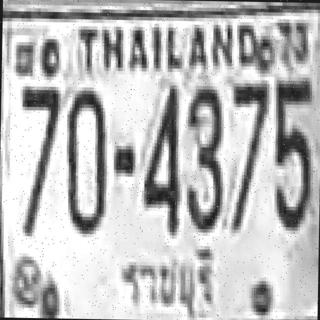N00: (63, 89, 106, 232)
N03: (184, 84, 222, 228)
N04: (141, 81, 179, 232)
N05: (272, 77, 312, 227)
N07: (18, 82, 58, 233), (229, 81, 267, 228), (229, 79, 267, 199), (18, 82, 58, 186), (230, 80, 267, 189), (230, 80, 267, 176)
P52: (116, 236, 220, 320)
